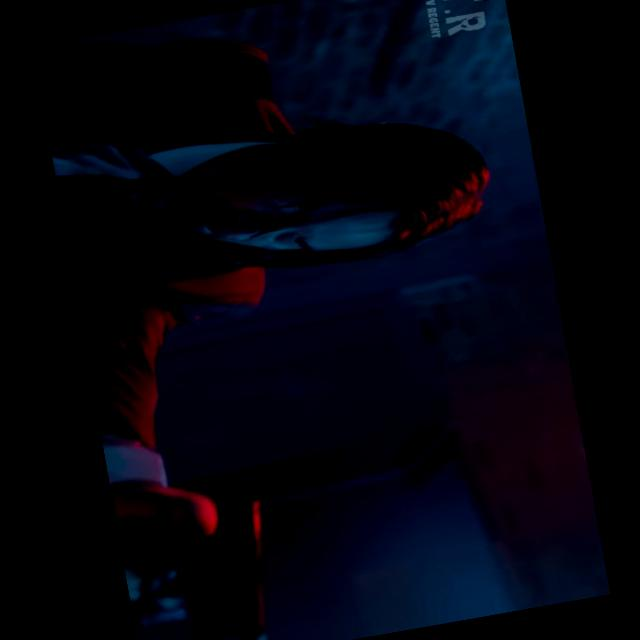handgun: (96, 474, 312, 639)
